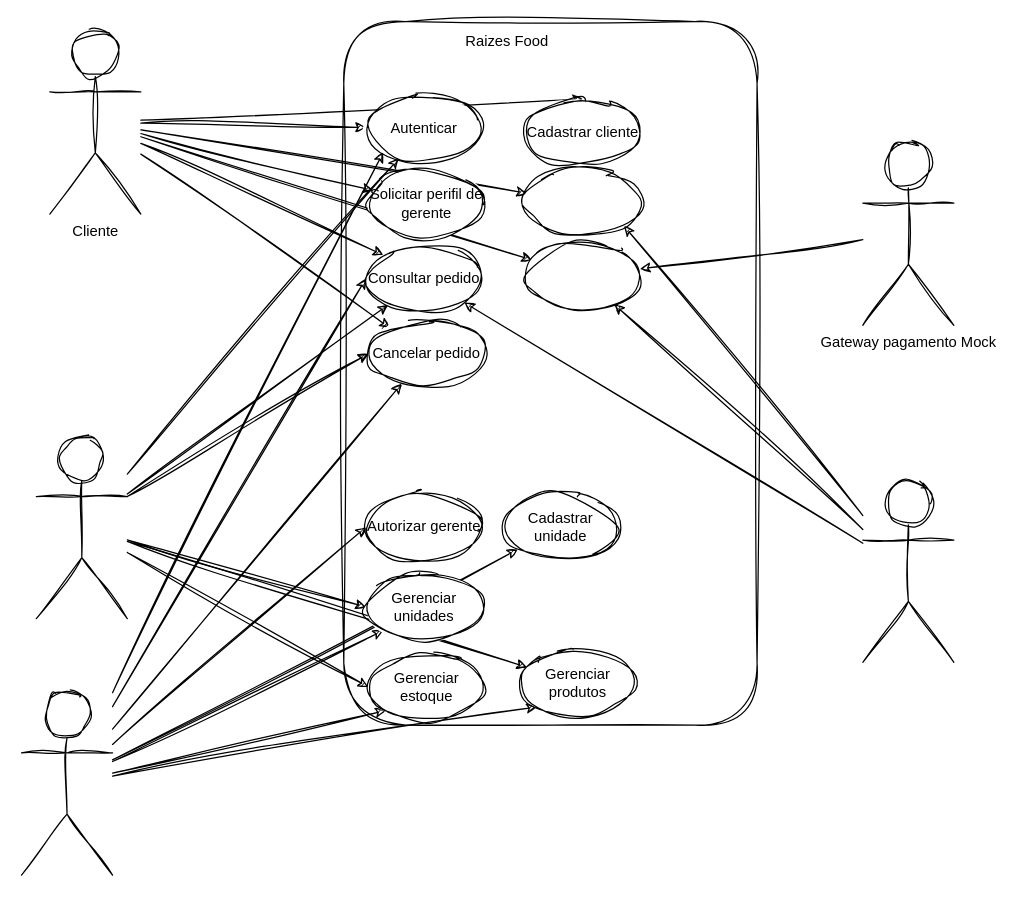
The diagram is 1017 pixels wide and 923 high, and some of its shapes have lost their labels. Each missing label, with the centre of its shape:
"Administrador" goes at pixel 66 783.
"Atendente" goes at pixel 908 570.
"Criar pedido" goes at pixel 582 202.
"G erente" goes at pixel 81 526.
"Processar pagamento" goes at pixel 582 275.
